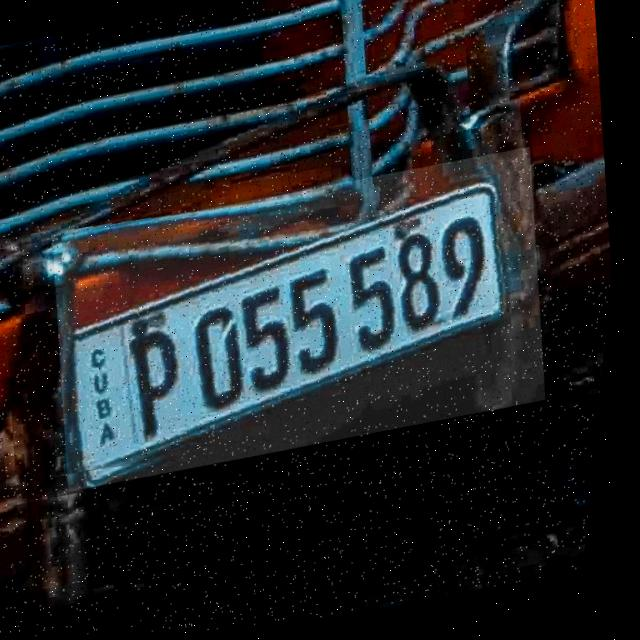LicensePlate: (38, 150, 573, 494)
